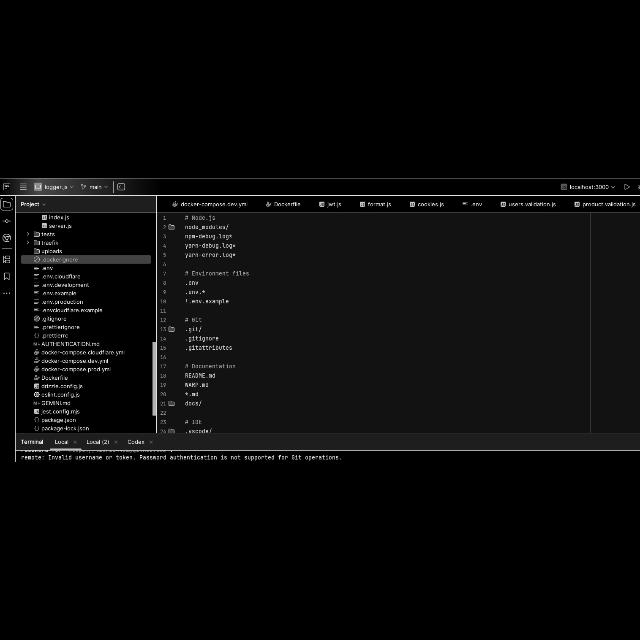code_screen: (183, 214, 259, 432)
